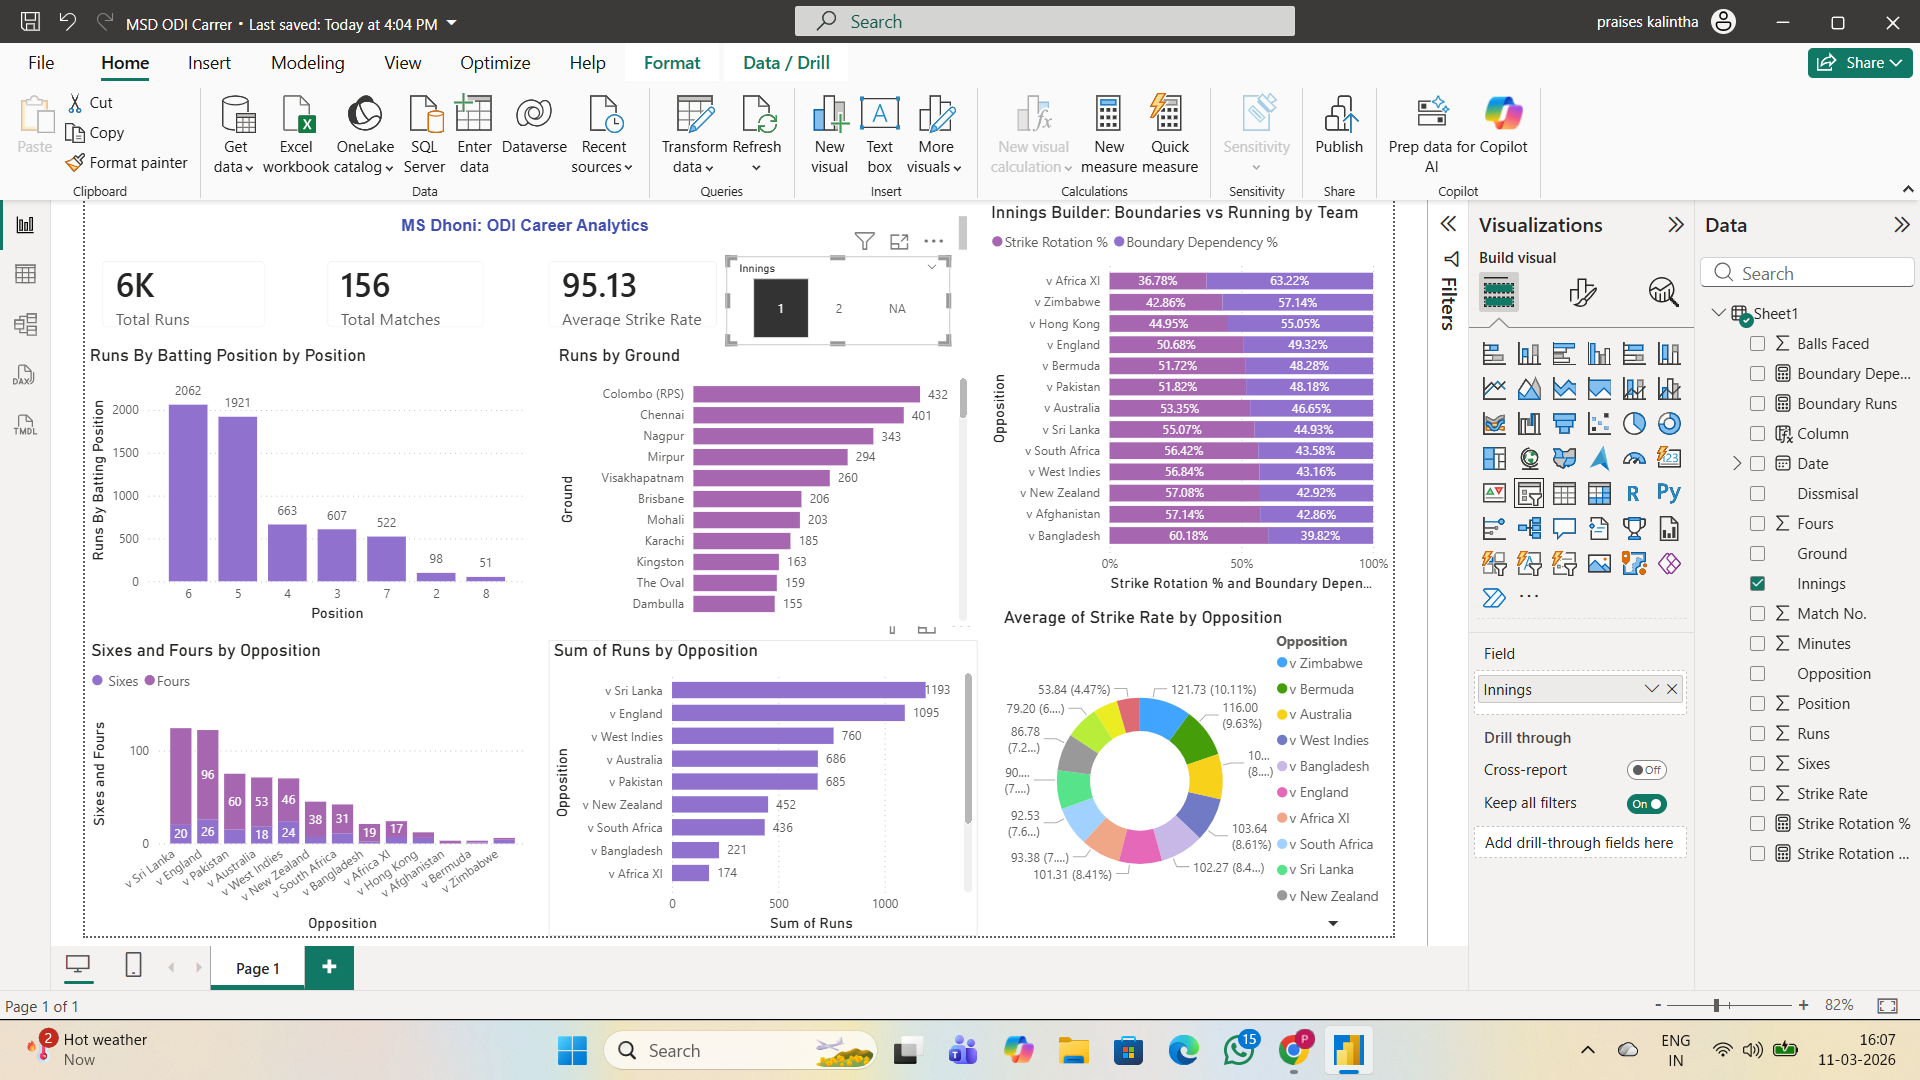

The page's visual inventory and layout, read from the dashboard file:
{"tool":"powerbi","page":{"name":"Page 1","canvas":[1280,720],"ordinal":0},"visuals":[{"type":"columnChart","fields":{"Category":["Sheet1.Position"],"Y":["Sum(Sheet1.Runs)"]},"box":[0,141.8,436.6,275.1],"z":0},{"type":"columnChart","fields":{"Category":["Sheet1.Opposition"],"Y":["Sum(Sheet1.Sixes)","Sum(Sheet1.Fours)"]},"box":[1.2,430.4,435.3,289.8],"z":1000},{"type":"clusteredBarChart","fields":{"Y":["Sum(Sheet1.Runs)"],"Category":["Sheet1.Opposition"]},"box":[453.7,430.4,419.4,289.8],"z":2000},{"type":"donutChart","fields":{"Category":["Sheet1.Opposition"],"Y":["Avg(Sheet1.Strike Rate)"]},"box":[893.9,397.4,386.4,322.8],"z":3000},{"type":"cardVisual","fields":{"Data":["Sum(Sheet1.Runs)"]},"box":[0,42.8,193.2,99],"z":4000},{"type":"cardVisual","fields":{"Data":["CountNonNull(Sheet1.Match No.)"]},"box":[220.1,42.8,187.1,99],"z":5000},{"type":"cardVisual","fields":{"Data":["Avg(Sheet1.Strike Rate)"]},"box":[436.6,42.8,199.3,99],"z":6000},{"type":"barChart","fields":{"Category":["Sheet1.Ground"],"Y":["Sum(Sheet1.Runs)"]},"box":[458.6,141.8,409.6,275.1],"z":7000},{"type":"slicer","fields":{"Values":["Sheet1.Innings"]},"box":[627.3,55,218.9,86.8],"z":8000},{"type":"hundredPercentStackedBarChart","title":"Innings Builder: Boundaries vs Running by Team","fields":{"Category":["Sheet1.Opposition"],"Y":["Sheet1.Strike Rotation %","Sheet1.Boundary Dependency %"]},"box":[881.7,1.2,398.6,386.4],"z":9000},{"type":"textbox","box":[1.2,11,867,44],"z":10000}]}

Visuals, with their boxes on the page's 1280x720 design canvas (x1, y1, x2, y2). These are canvas units, not pixel positions in the 1920x1080 screenshot, which may show the page scaled, cropped or inside an application window:
columnChart - Sheet1.Position x Sum(Sheet1.Runs): left=0, top=142, right=437, bottom=417
columnChart - Sheet1.Opposition x Sum(Sheet1.Sixes): left=1, top=430, right=436, bottom=720
clusteredBarChart - Sum(Sheet1.Runs) x Sheet1.Opposition: left=454, top=430, right=873, bottom=720
donutChart - Sheet1.Opposition x Avg(Sheet1.Strike Rate): left=894, top=397, right=1280, bottom=720
cardVisual - Sum(Sheet1.Runs): left=0, top=43, right=193, bottom=142
cardVisual - CountNonNull(Sheet1.Match No.): left=220, top=43, right=407, bottom=142
cardVisual - Avg(Sheet1.Strike Rate): left=437, top=43, right=636, bottom=142
barChart - Sheet1.Ground x Sum(Sheet1.Runs): left=459, top=142, right=868, bottom=417
slicer - Sheet1.Innings: left=627, top=55, right=846, bottom=142
"Innings Builder: Boundaries vs Running by Team" hundredPercentStackedBarChart: left=882, top=1, right=1280, bottom=388
textbox: left=1, top=11, right=868, bottom=55
